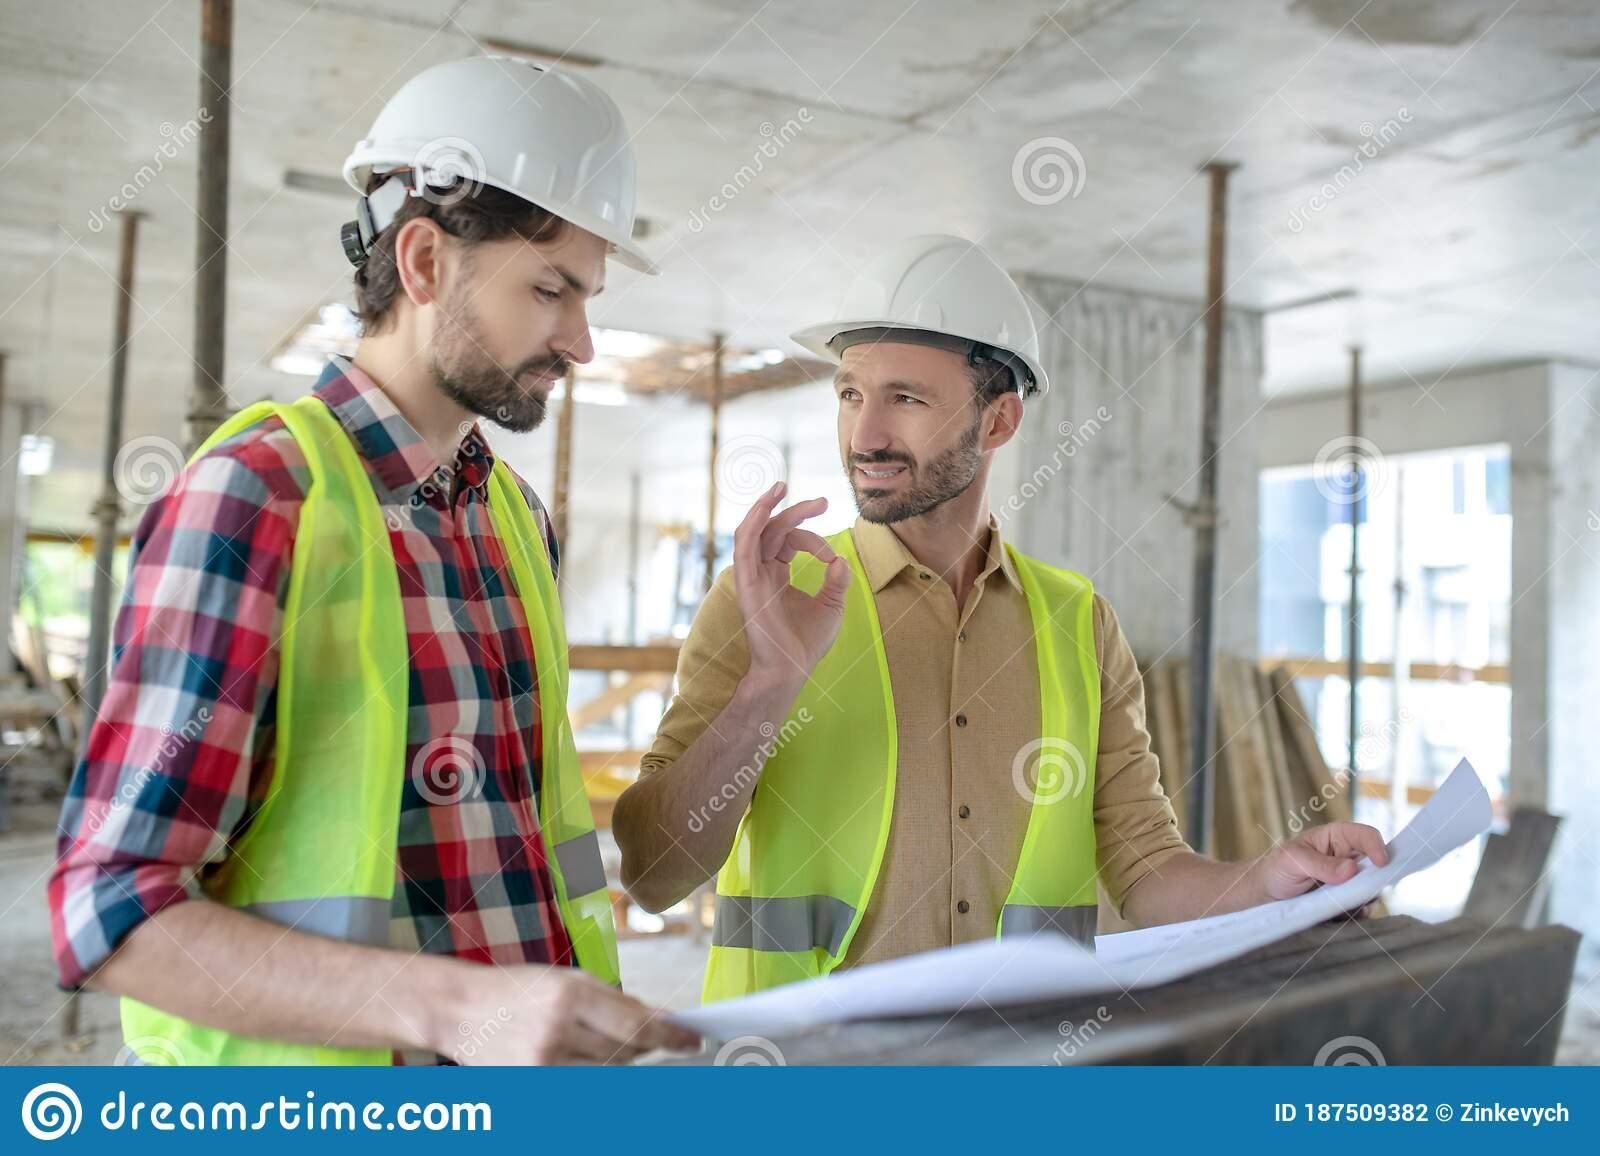hat: (288, 7, 718, 304), (791, 174, 1071, 421)
vest: (88, 341, 648, 1068), (678, 445, 1154, 1014)
